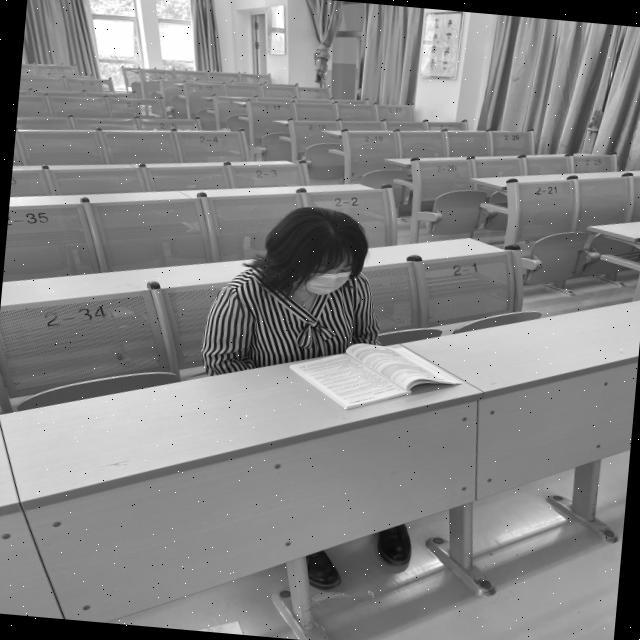study: (202, 198, 425, 411)
